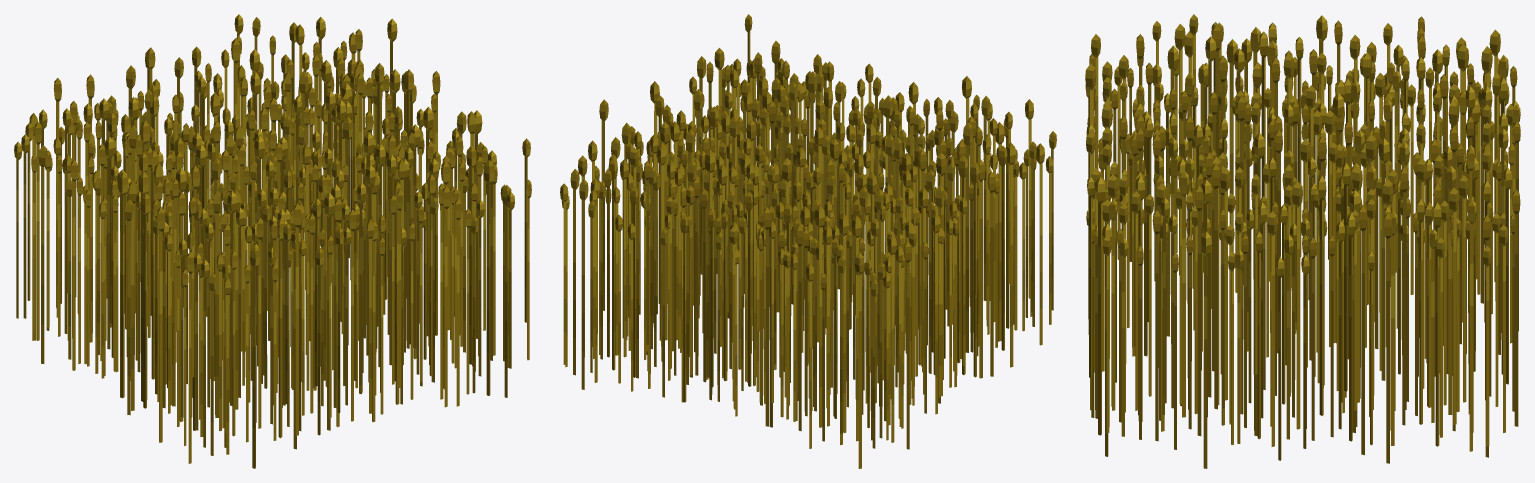
Rendered from wheat (3).fbx.
3 views of the same model, side by side, from view 1: azimuth 30°, elevation 25°; view 2: azimuth 150°, elevation 25°; view 3: azimuth 270°, elevation 25° (orthographic). The views are drawn at different scales.
Visible parts, largest first — view 1: Cube.1071; view 2: Cube.1071; view 3: Cube.1071.
Part boxes in pixels (x1=…): Cube.1071: x1=14, y1=14, x2=531, y2=468; Cube.1071: x1=560, y1=14, x2=1056, y2=468; Cube.1071: x1=1085, y1=14, x2=1520, y2=468.
Size of the model in its own units: 328 by 255 by 325.
